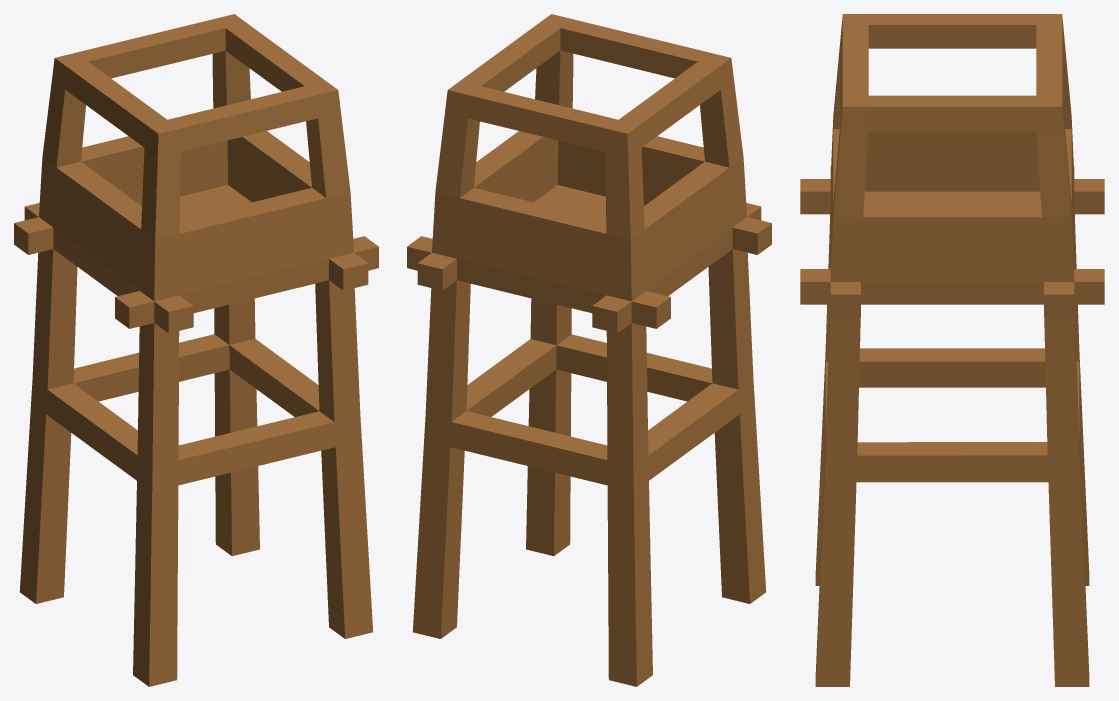
File: watchtower.glb
3 renders of one model, left to right at view 1: azimuth 30°, elevation 25°; view 2: azimuth 150°, elevation 25°; view 3: azimuth 270°, elevation 25°, orthographic. The views are drawn at different scales.
Visible parts, largest first — view 1: Watchtower; view 2: Watchtower; view 3: Watchtower.
Part boxes in pixels (<box>): Watchtower: <box>14,14,378,686</box>; Watchtower: <box>407,14,771,686</box>; Watchtower: <box>800,14,1104,686</box>.
Size of the model in its own units: 1.49 by 3.08 by 1.49.
